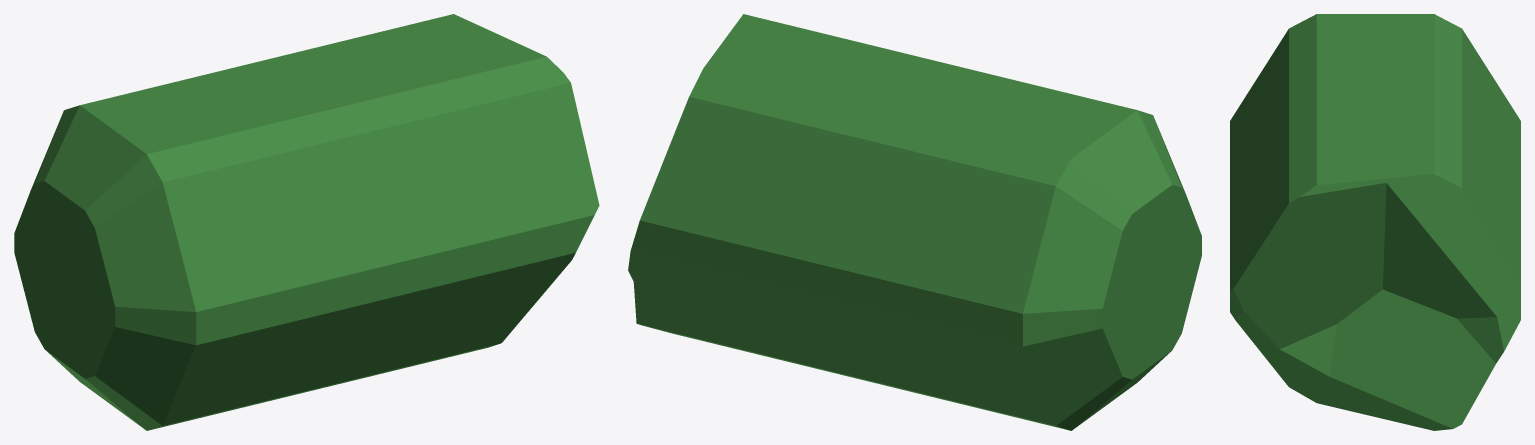
Rendered from rough-emerald-bf6f88.glb.
3 renders of one model, left to right at view 1: azimuth 30°, elevation 25°; view 2: azimuth 150°, elevation 25°; view 3: azimuth 270°, elevation 25°, orthographic. The views are drawn at different scales.
Visible parts, largest first — view 1: crystal; view 2: crystal; view 3: crystal.
Part boxes in pixels (bbox=[...]): crystal: bbox=[14, 14, 599, 430]; crystal: bbox=[628, 14, 1201, 430]; crystal: bbox=[1230, 14, 1520, 430].
Bounding box in the file's own units: 0.14 × 0.078 × 0.0847.
